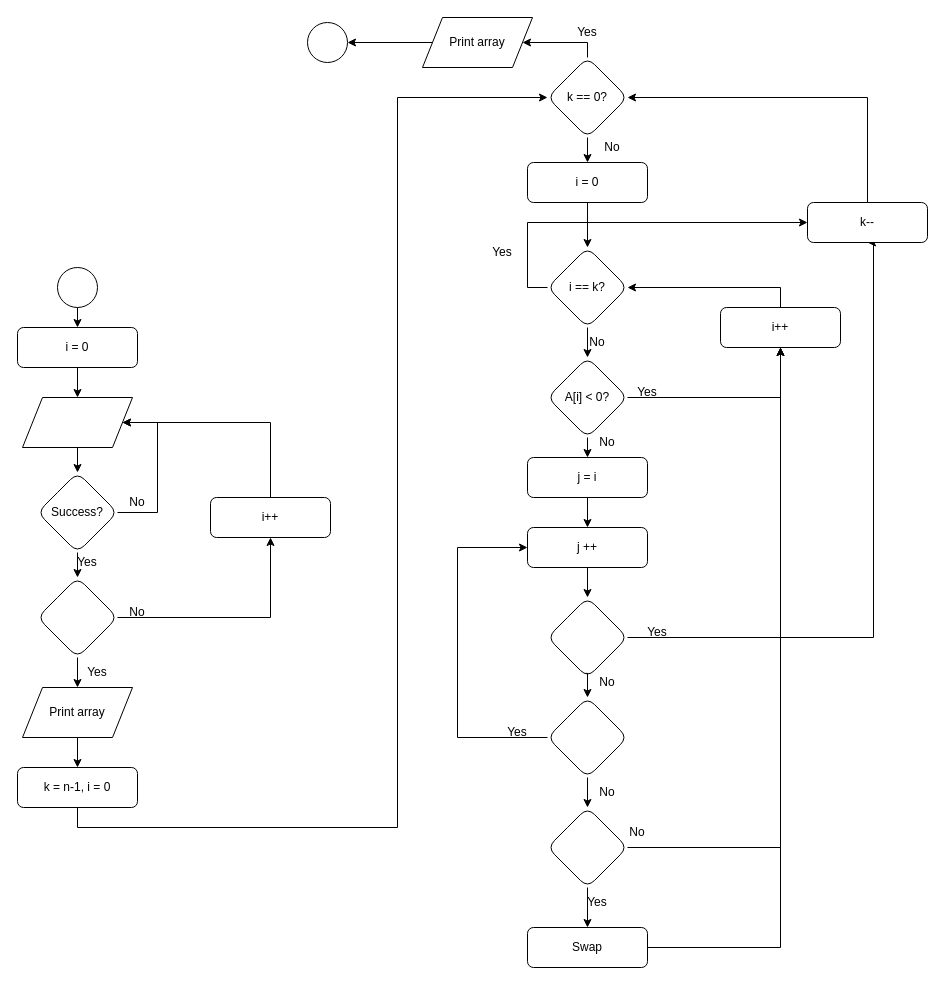
Image size: 945x985. Some labels were removed from this diagram. Each missing label, with the box of its shape:
A[i] = 0?: (36, 576, 118, 658)
A[j] < 0?: (546, 696, 628, 778)
A[j] < A[i]?: (546, 806, 628, 888)
End: (306, 22, 348, 62)
Input A[i]: (22, 396, 132, 448)
j > k?: (546, 596, 628, 678)
Start: (56, 266, 98, 308)
